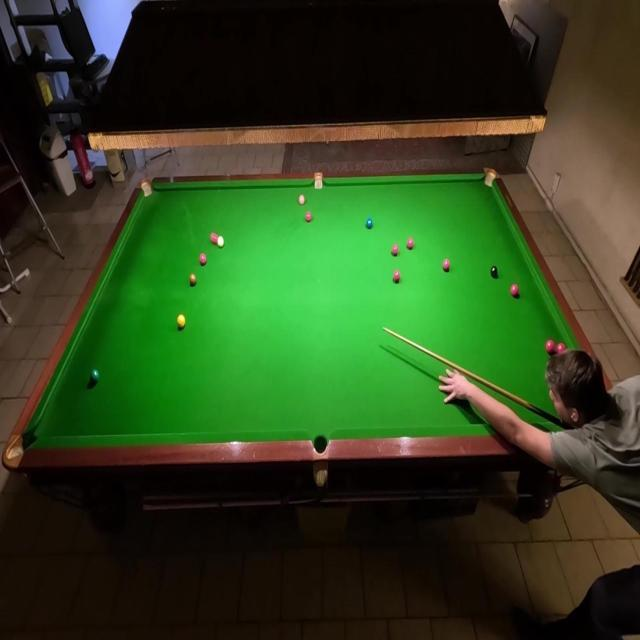Ball: (545, 338, 555, 356), (90, 368, 100, 383), (177, 314, 186, 328), (556, 342, 566, 354), (199, 252, 207, 267), (442, 258, 450, 272), (490, 264, 498, 278), (511, 283, 518, 297), (304, 210, 312, 222), (210, 232, 218, 244), (298, 194, 306, 206), (407, 237, 414, 250), (394, 270, 401, 283), (366, 217, 373, 230), (217, 236, 224, 248), (190, 274, 197, 286), (392, 244, 398, 256)
